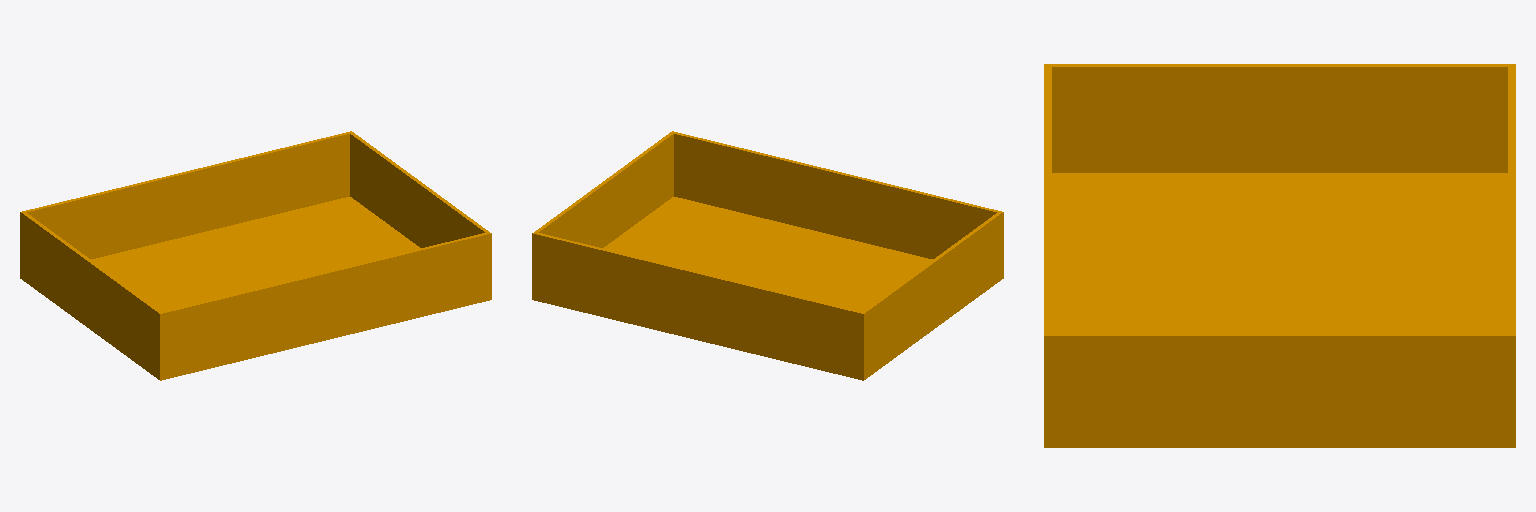
URDF robot description (ipad_box):
<?xml version="1.0"?>
<robot name="ipad_box">

  <link name="ipad_box">
    <visual>
      <origin xyz="0.0 0.0 0.0"/>
      <geometry>
        <mesh filename="../../meshes/objects/ipad_box.obj" scale="0.001 0.001 0.001"/>
      </geometry>
    </visual>
    <collision concave="yes">
      <origin xyz="0.0 0.0 0.0"/>
      <geometry>
        <mesh filename="../../meshes/objects/ipad_box.obj" scale="0.001 0.001 0.001"/>
      </geometry>
    </collision>
  </link>
</robot>

--- Facts derived from the render (not from the file) ---
3 views of the same robot in one strip: view 1: azimuth 30°, elevation 25°; view 2: azimuth 150°, elevation 25°; view 3: azimuth 270°, elevation 25° (orthographic).
Model ipad_box with 1 links and 0 joints (none), rooted at ipad_box, posed every joint at zero.
Links seen in each view (by area): view 1: ipad_box; view 2: ipad_box; view 3: ipad_box.
Link boxes in pixels (x1,y1,x2,y2): ipad_box: [20, 131, 491, 380]; ipad_box: [532, 131, 1003, 380]; ipad_box: [1044, 64, 1515, 447].
Size in the robot's own frame: 0.26 by 0.19 by 0.05 metres.
Meshes: 1 distinct files referenced, 1 mesh visuals loaded (1 OBJ).